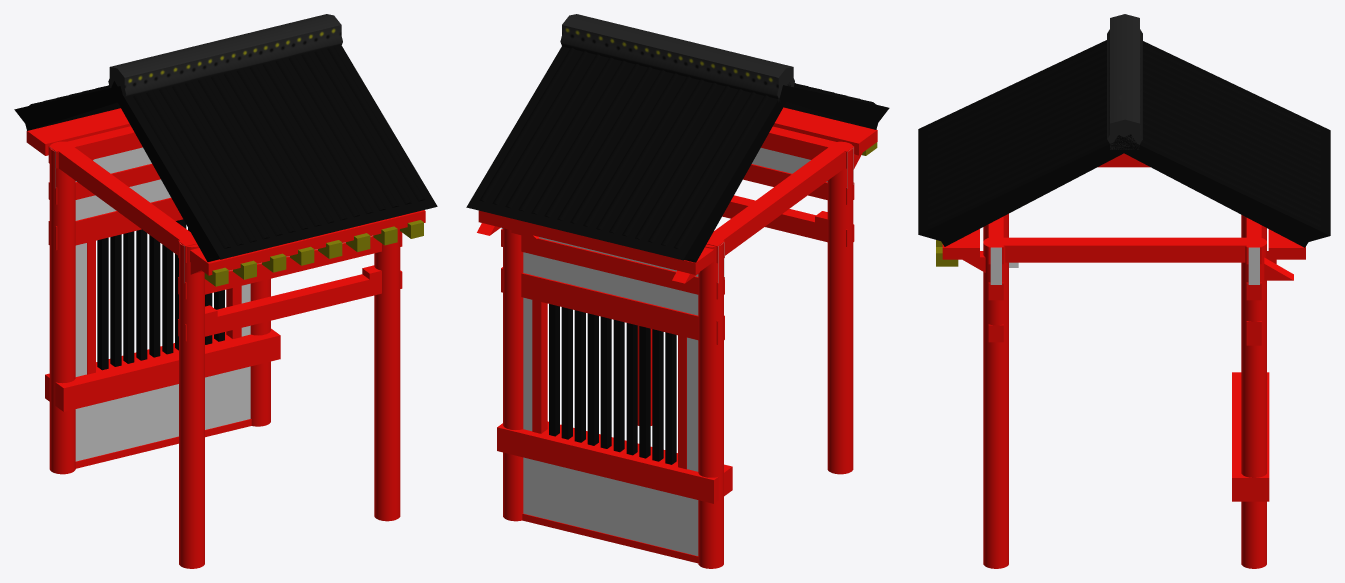
Rendered from loft1.FBX.
3 renders of one model, left to right at view 1: azimuth 30°, elevation 25°; view 2: azimuth 150°, elevation 25°; view 3: azimuth 270°, elevation 25°, orthographic.
Visible parts, largest first — view 1: Box029, Box034, Cylinder003, Box001, Cylinder001, Cylinder004, Box006, Box018, Box022, Box026, Box030, Box031 (+33 smaller); view 2: Box030, Box001, Cylinder003, Box034, Cylinder001, Box006, Cylinder002, Box008, Box022, Box010, Box009, Box031 (+38 smaller); view 3: Box030, Box029, Cylinder004, Cylinder002, Box023, Box034, Box006, Box026, Box031, Cylinder021, Cylinder025, Cylinder033 (+30 smaller).
Part boxes in pixels (left/top/right/bottom): Box029: left=110, top=45, right=437, bottom=261; Box034: left=108, top=14, right=342, bottom=98; Cylinder003: left=179, top=242, right=204, bottom=568; Box001: left=75, top=367, right=250, bottom=461; Cylinder001: left=49, top=141, right=75, bottom=474; Cylinder004: left=374, top=229, right=400, bottom=521; Box006: left=45, top=328, right=280, bottom=411; Box018: left=178, top=270, right=402, bottom=341; Box022: left=57, top=146, right=193, bottom=255; Box026: left=190, top=210, right=425, bottom=275; Box030: left=14, top=86, right=122, bottom=130; Box031: left=26, top=108, right=130, bottom=155; Box030: left=466, top=46, right=790, bottom=262; Box001: left=523, top=461, right=698, bottom=555; Cylinder003: left=827, top=141, right=853, bottom=474; Box034: left=560, top=14, right=794, bottom=101; Cylinder001: left=698, top=243, right=723, bottom=568; Box006: left=497, top=421, right=732, bottom=503; Cylinder002: left=503, top=228, right=523, bottom=521; Box008: left=501, top=267, right=724, bottom=344; Box022: left=710, top=147, right=844, bottom=255; Box010: left=533, top=255, right=686, bottom=312; Box009: left=501, top=229, right=724, bottom=299; Box031: left=478, top=210, right=714, bottom=274; Box030: left=1112, top=41, right=1330, bottom=247; Box029: left=918, top=40, right=1137, bottom=246; Cylinder004: left=983, top=238, right=1008, bottom=568; Cylinder002: left=1241, top=238, right=1266, bottom=568; Box023: left=1000, top=237, right=1250, bottom=262; Box034: left=1107, top=14, right=1142, bottom=149; Box006: left=1232, top=372, right=1269, bottom=501; Box026: left=942, top=229, right=979, bottom=259; Box031: left=1268, top=229, right=1305, bottom=259; Cylinder021: left=927, top=138, right=1107, bottom=226; Cylinder025: left=927, top=112, right=1106, bottom=200; Cylinder033: left=927, top=62, right=1106, bottom=150.
Bounding box in the file's own units: 275 × 523 × 435.
Materials: 5 (1 with a texture image).
